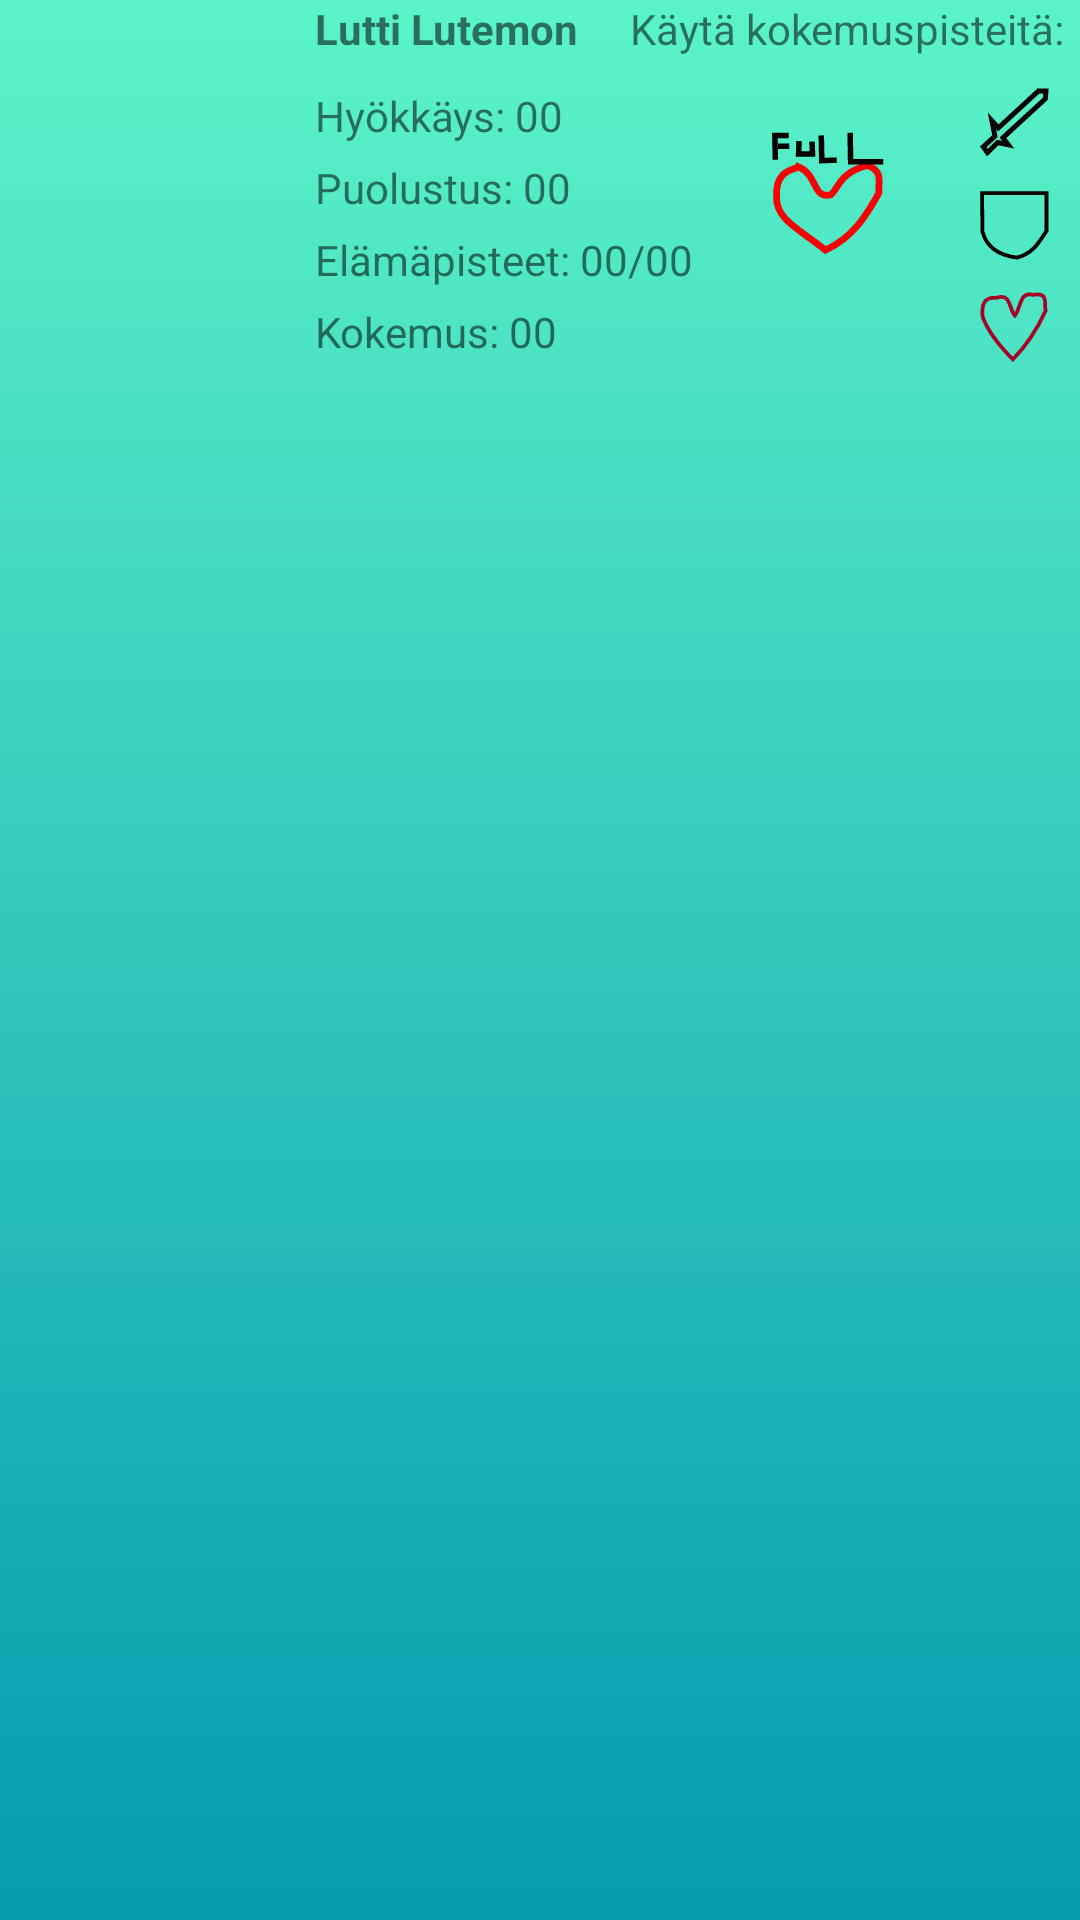

Icons on this 1080x1920 Android screen, each with its box as (x1, y1, x2, y2):
attack: (980, 88, 1049, 156)
defence: (980, 191, 1049, 260)
health: (980, 292, 1048, 362)
